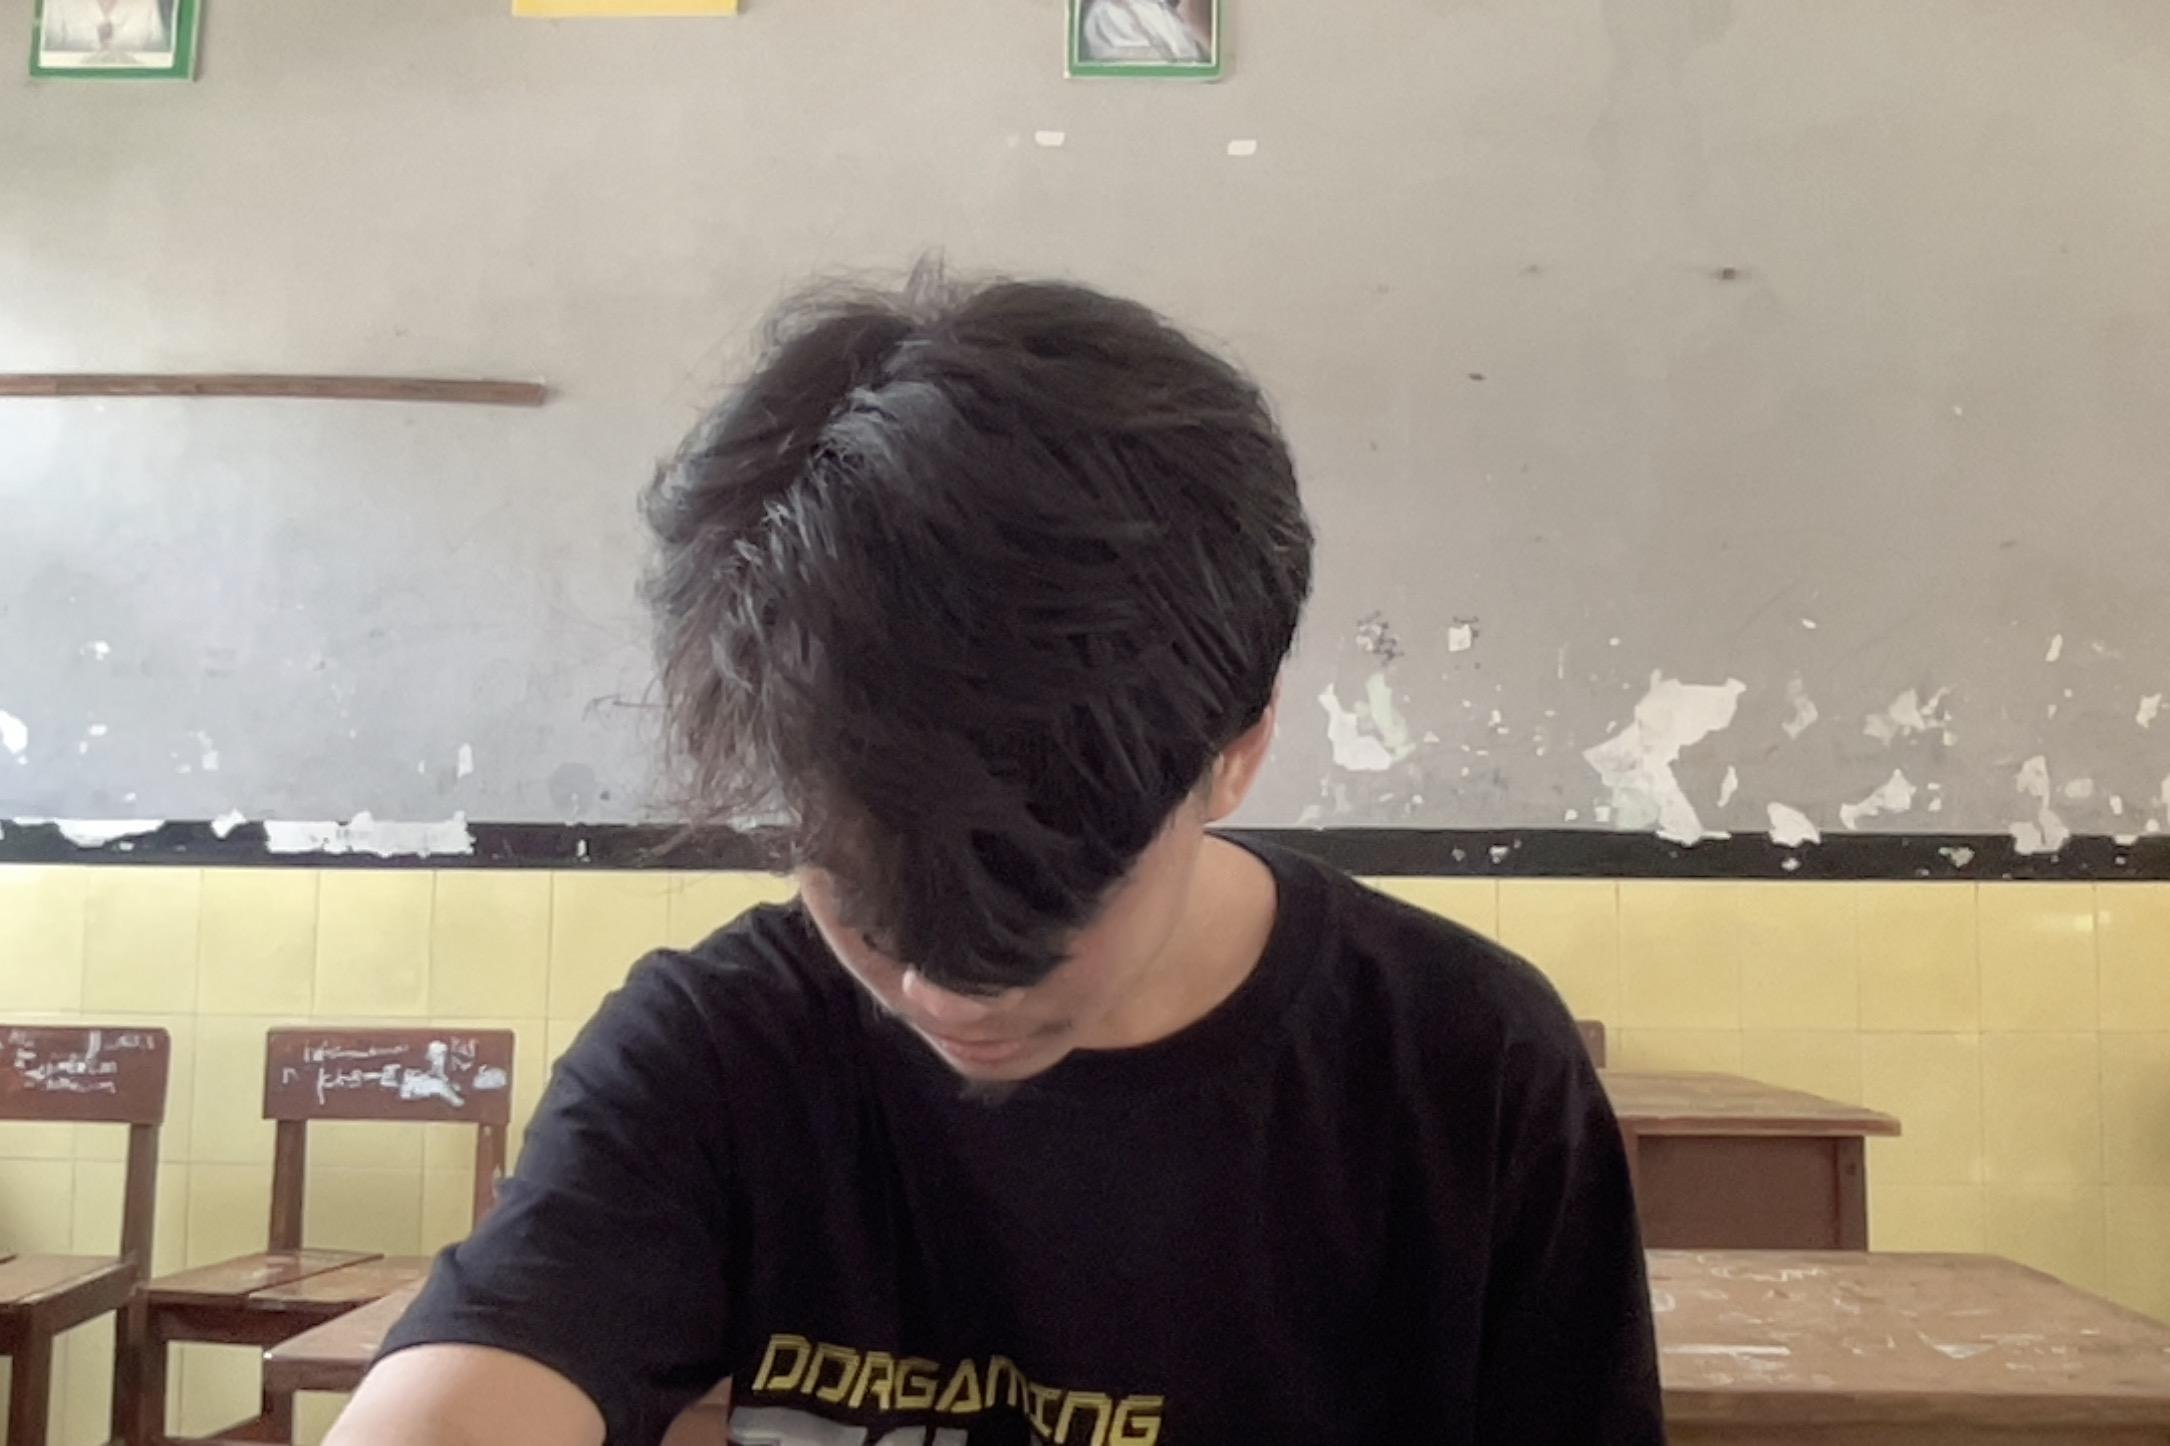good: (287, 211, 1717, 1446)
